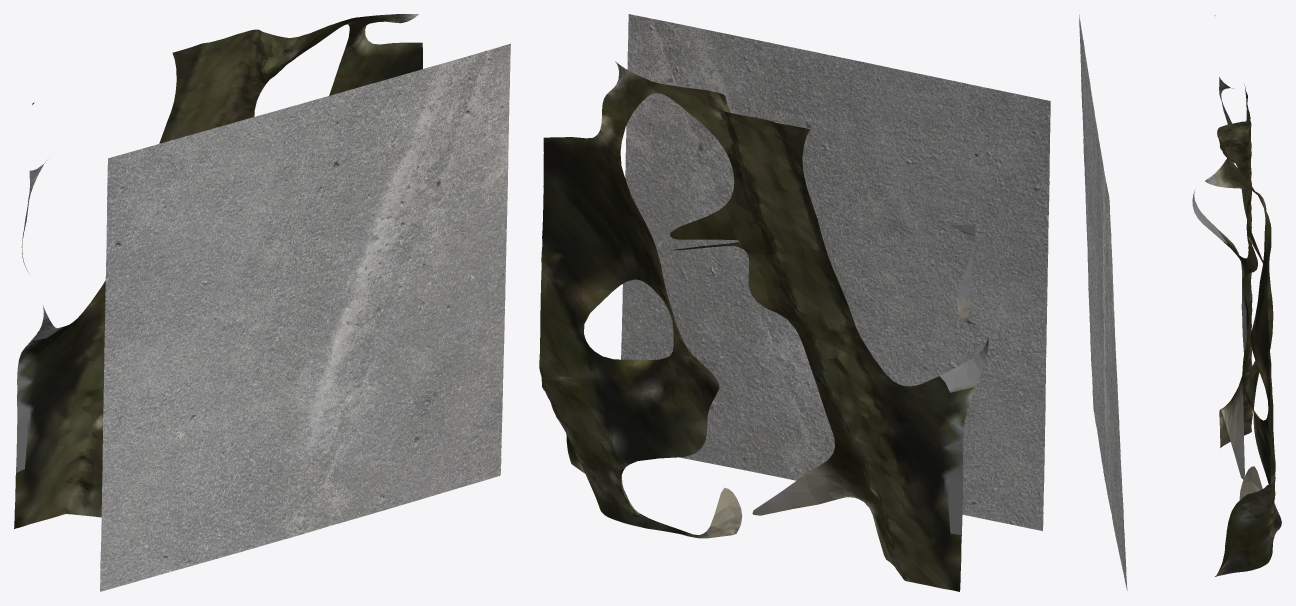
File: Tile_+004_+004.fbx
The picture shows the model from 3 angles, left to right: view 1: azimuth 30°, elevation 25°; view 2: azimuth 150°, elevation 25°; view 3: azimuth 270°, elevation 25°; orthographic projection. The views are drawn at different scales.
Parts seen in each view (by area): view 1: Tile_+004_+004_LOD0; view 2: Tile_+004_+004_LOD0; view 3: Tile_+004_+004_LOD0.
Boxes of the visible parts, left/top/right/bottom form: Tile_+004_+004_LOD0: left=14, top=14, right=510, bottom=591; Tile_+004_+004_LOD0: left=539, top=14, right=1050, bottom=591; Tile_+004_+004_LOD0: left=1079, top=15, right=1281, bottom=590.
Size of what is drawn, in the model's own units: 303 by 303 by 141.
